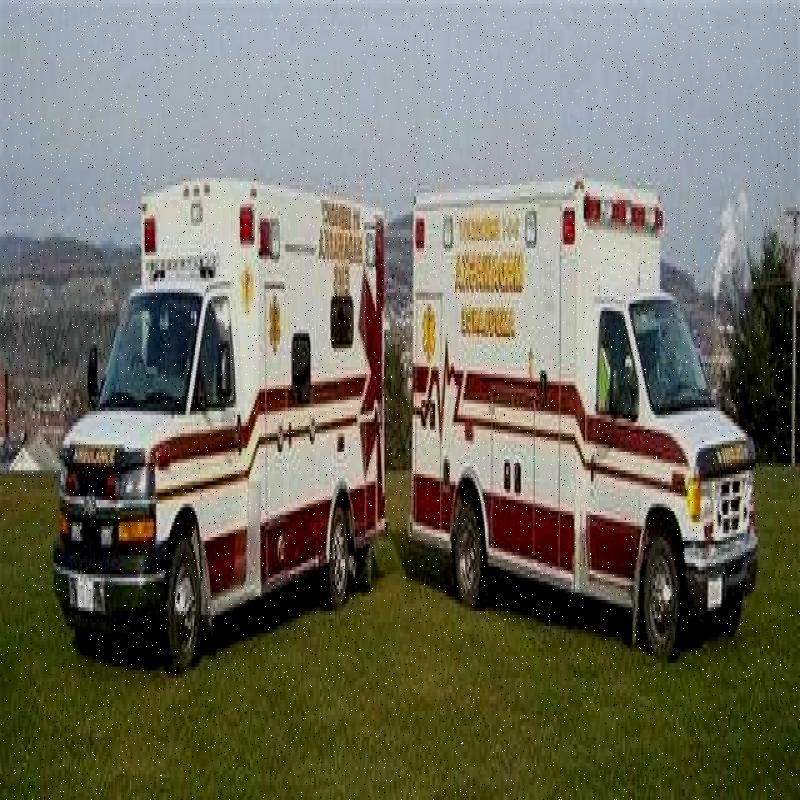AmbulanceSiren: (577, 195, 663, 256)
